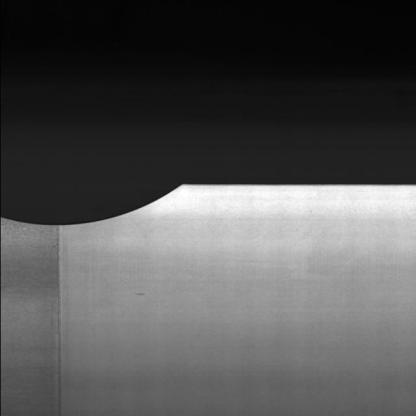crescent_gap: (0, 178, 196, 236)
welding_line: (36, 218, 67, 416)
